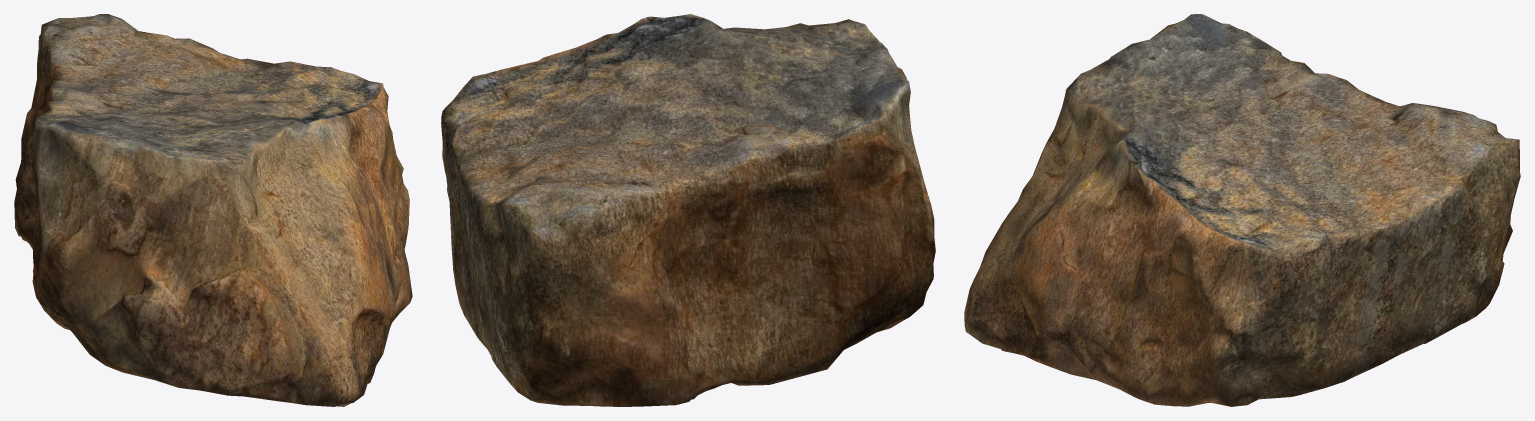
File: boulder-b.glb
3 renders of one model, left to right at view 1: azimuth 30°, elevation 25°; view 2: azimuth 150°, elevation 25°; view 3: azimuth 270°, elevation 25°, orthographic. The views are drawn at different scales.
Visible parts, largest first — view 1: boulder_03_LOD0; view 2: boulder_03_LOD0; view 3: boulder_03_LOD0.
Part boxes in pixels (x1=…): boulder_03_LOD0: x1=14, y1=14, x2=412, y2=406; boulder_03_LOD0: x1=441, y1=14, x2=935, y2=406; boulder_03_LOD0: x1=964, y1=14, x2=1520, y2=406.
Bounding box in the file's own units: 2.4 × 1.47 × 3.06.
Materials: 1 (1 with a texture image).
